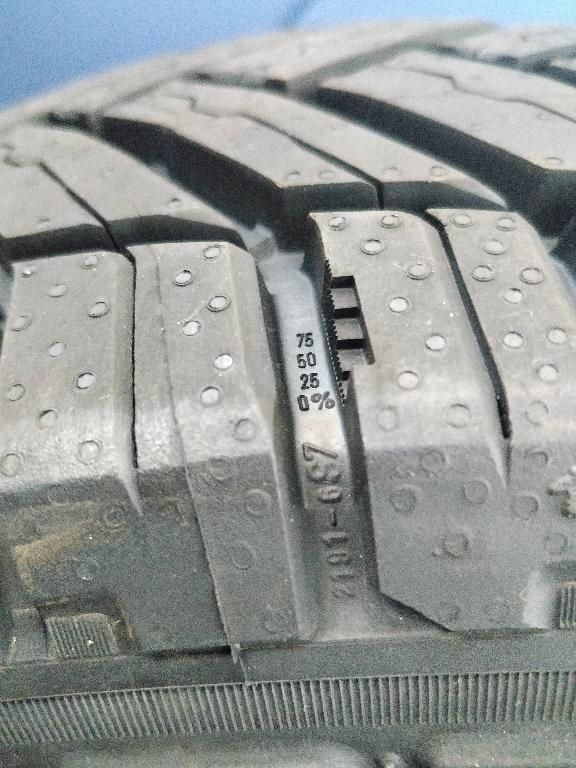temoin:100: (320, 257, 379, 410)
